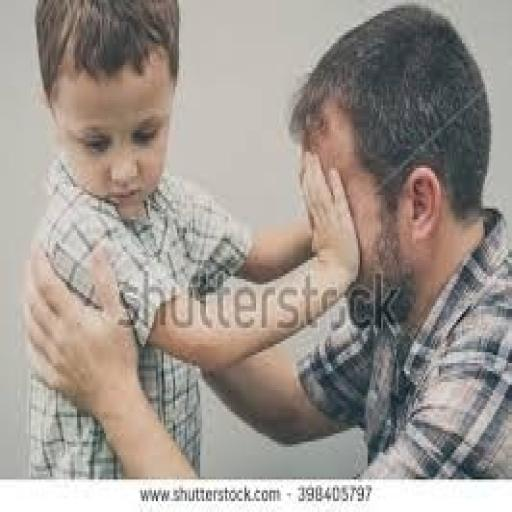hugging: (21, 0, 510, 479)
